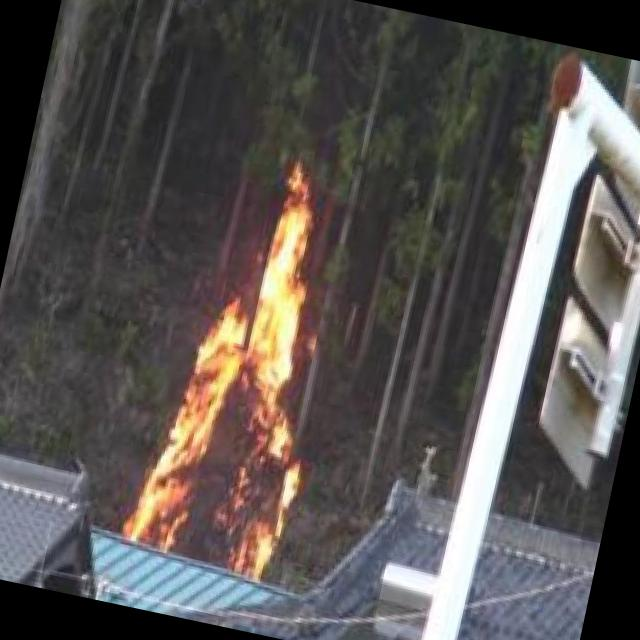Fire: (120, 166, 357, 574)
